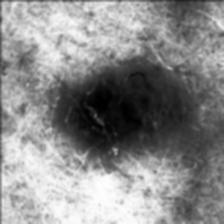Potentially Malignant Skin Tumors: (34, 52, 190, 162)
